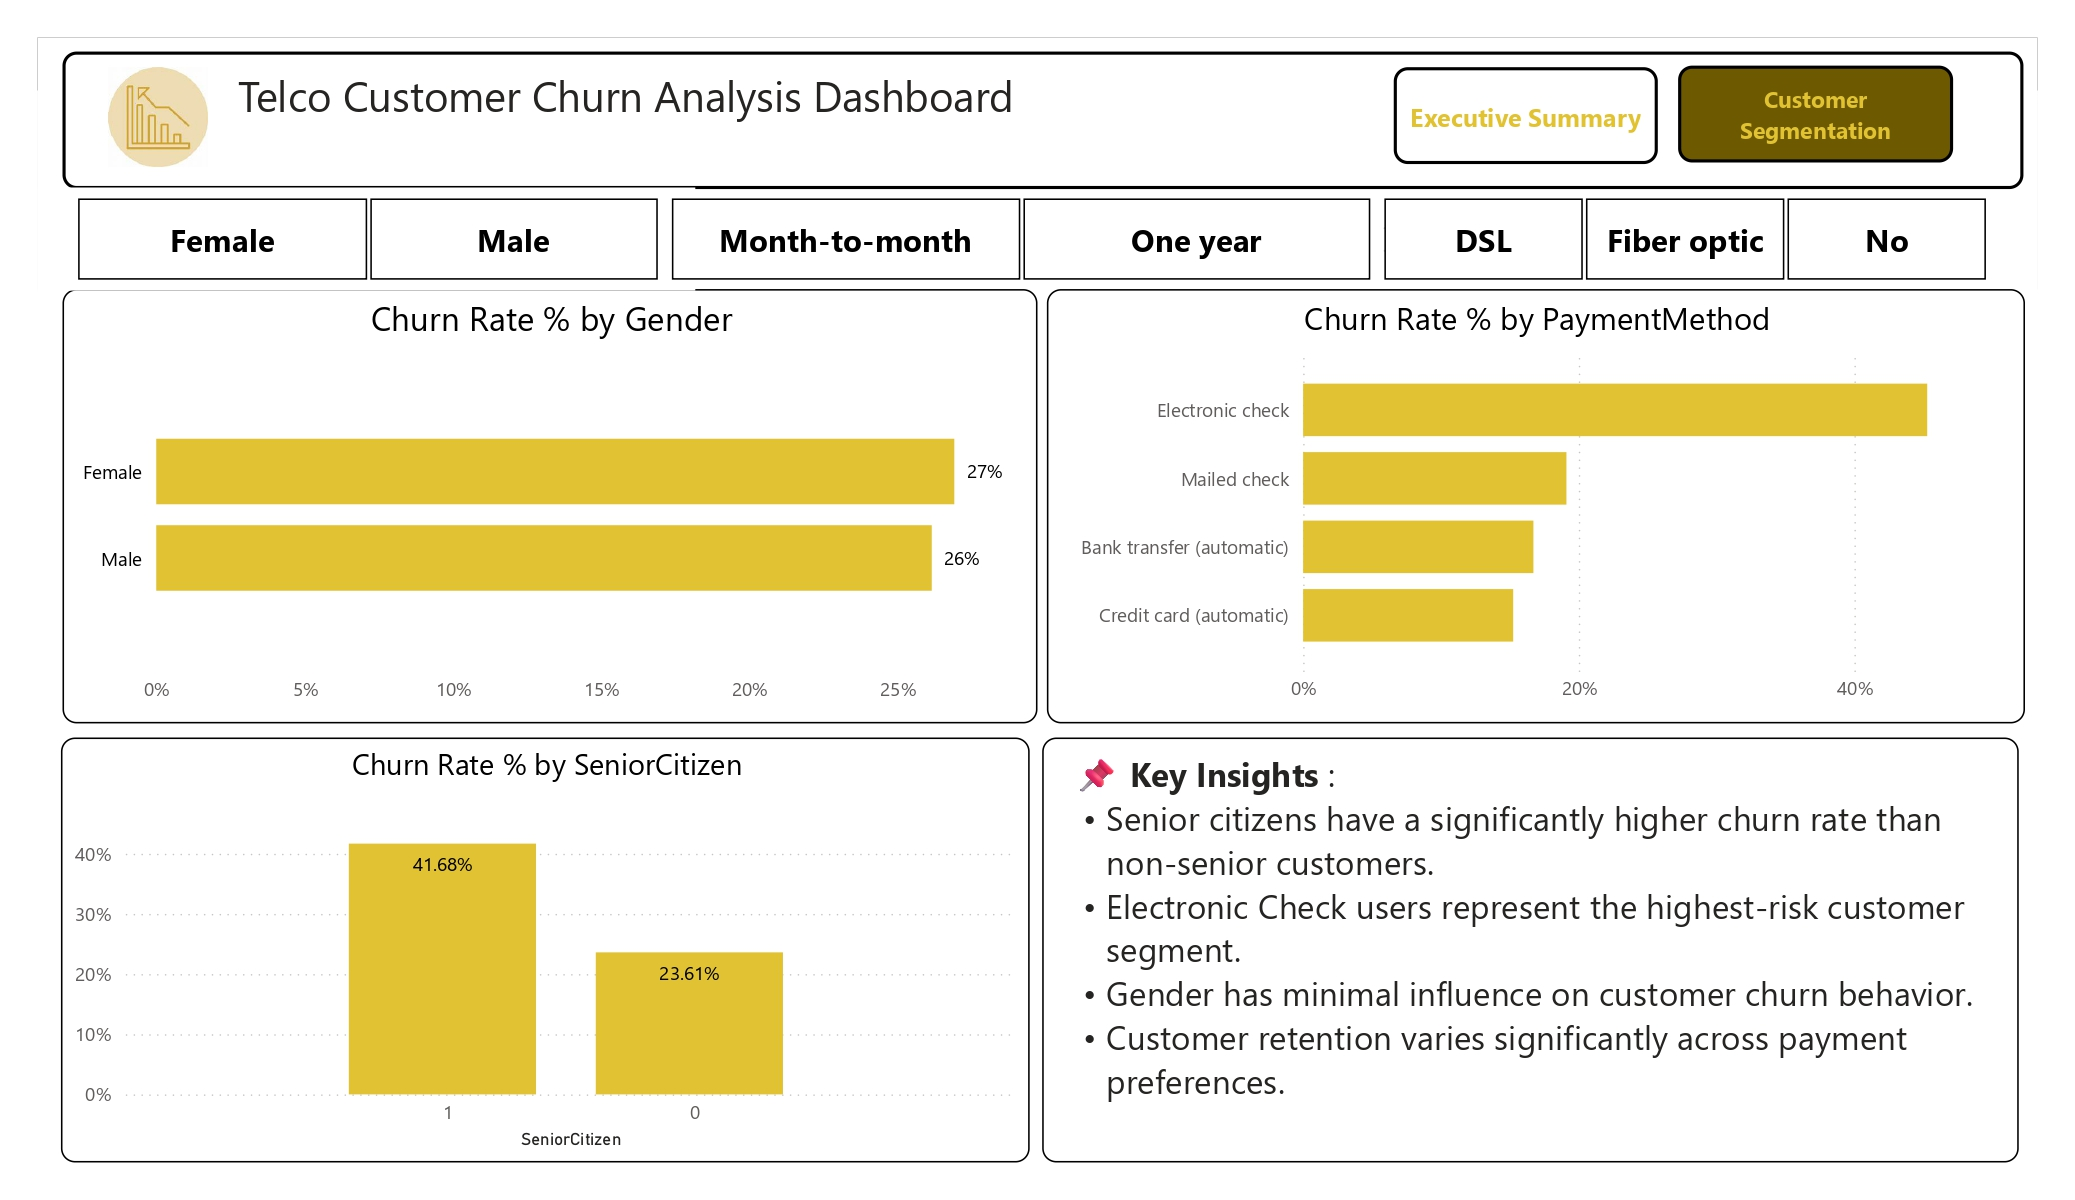

The page's visual inventory and layout, read from the dashboard file:
{"tool":"powerbi","page":{"name":"Customer Segmentation","canvas":[1280,720],"ordinal":1},"visuals":[{"type":"group","id":"g1","title":"Group 2","box":[16.2,8.8,1255,87.5],"z":0},{"type":"textbox","box":[16.2,8.8,1255,87.5],"z":0,"group":"g1"},{"type":"actionButton","box":[868.2,18.9,168.8,62.4],"z":1000,"group":"g1"},{"type":"barChart","fields":{"Category":["WA_Fn-UseC_-Telco-Customer-Chur.gender"],"Y":["WA_Fn-UseC_-Telco-Customer-Chur.Churn Rate %"]},"box":[15.7,161.4,624.3,277.1],"z":1000},{"type":"actionButton","box":[1050.4,17.7,176.1,62.4],"z":2000,"group":"g1"},{"type":"group","id":"g2","title":"Group 1","box":[0,95.7,1271.4,65.7],"z":2000},{"type":"slicer","fields":{"Values":["WA_Fn-UseC_-Telco-Customer-Chur.gender"]},"box":[0,95.7,421.4,65.7],"z":2000,"group":"g2"},{"type":"slicer","fields":{"Values":["WA_Fn-UseC_-Telco-Customer-Chur.Contract"]},"box":[380.3,95.7,496.7,65.7],"z":3000,"group":"g2"},{"type":"barChart","fields":{"Category":["WA_Fn-UseC_-Telco-Customer-Chur.PaymentMethod"],"Y":["WA_Fn-UseC_-Telco-Customer-Chur.Churn Rate %"]},"box":[645.7,161.4,626.1,277.6],"z":3000},{"type":"slicer","fields":{"Values":["WA_Fn-UseC_-Telco-Customer-Chur.InternetService"]},"box":[835.8,95.7,435.6,65.7],"z":4000,"group":"g2"},{"type":"clusteredColumnChart","fields":{"Category":["WA_Fn-UseC_-Telco-Customer-Chur.SeniorCitizen"],"Y":["WA_Fn-UseC_-Telco-Customer-Chur.Churn Rate %"]},"box":[15,448.3,620,271.7],"z":4000},{"type":"image","box":[41.6,18.9,70.9,63.6],"z":5000,"group":"g1"},{"type":"textbox","box":[643.3,448.3,625,271.7],"z":5000}]}

Visuals, with their boxes on the page's 1280x720 design canvas (x1, y1, x2, y2). These are canvas units, not pixel positions in the 2075x1200 screenshot, which may show the page scaled, cropped or inside an application window:
"Group 2" group: (left=16, top=9, right=1271, bottom=96)
textbox: (left=16, top=9, right=1271, bottom=96)
actionButton: (left=868, top=19, right=1037, bottom=81)
barChart - WA_Fn-UseC_-Telco-Customer-Chur.gender x WA_Fn-UseC_-Telco-Customer-Chur.Churn Rate %: (left=16, top=161, right=640, bottom=438)
actionButton: (left=1050, top=18, right=1226, bottom=80)
"Group 1" group: (left=0, top=96, right=1271, bottom=161)
slicer - WA_Fn-UseC_-Telco-Customer-Chur.gender: (left=0, top=96, right=421, bottom=161)
slicer - WA_Fn-UseC_-Telco-Customer-Chur.Contract: (left=380, top=96, right=877, bottom=161)
barChart - WA_Fn-UseC_-Telco-Customer-Chur.PaymentMethod x WA_Fn-UseC_-Telco-Customer-Chur.Churn Rate %: (left=646, top=161, right=1272, bottom=439)
slicer - WA_Fn-UseC_-Telco-Customer-Chur.InternetService: (left=836, top=96, right=1271, bottom=161)
clusteredColumnChart - WA_Fn-UseC_-Telco-Customer-Chur.SeniorCitizen x WA_Fn-UseC_-Telco-Customer-Chur.Churn Rate %: (left=15, top=448, right=635, bottom=720)
image: (left=42, top=19, right=112, bottom=82)
textbox: (left=643, top=448, right=1268, bottom=720)
